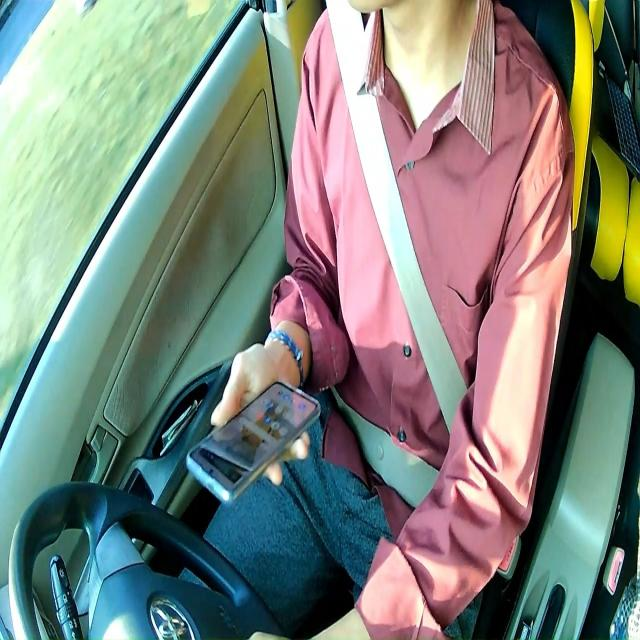phone: (186, 374, 322, 503)
